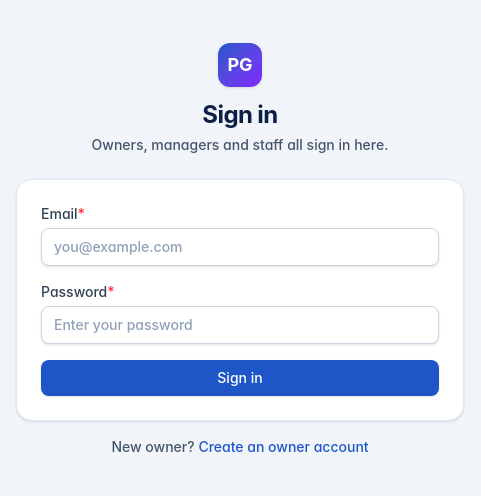
Test: LoginPage › shows the API error message when sign-in is rejected
Type "owner@example.com" into the field labelled "Email*".
click(240, 247); type("owner@example.com")  # box [41,228,439,266]
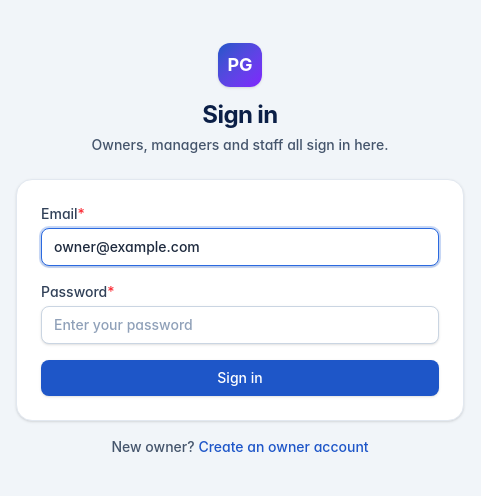
Type "wrong-password" into the password field labelled "Password*".
click(240, 325); type("wrong-password")  # box [41,306,439,344]
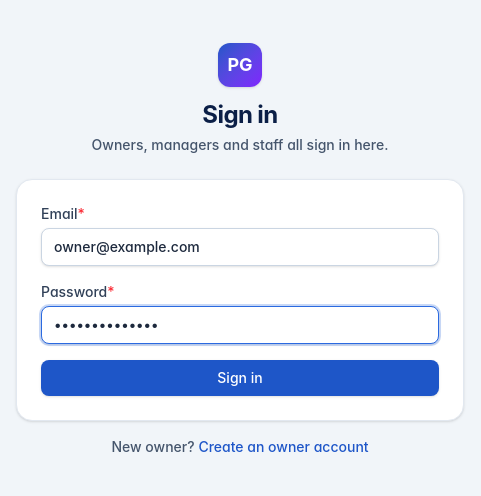
Click the button "Sign in".
click(240, 378)  # box [41,360,439,396]
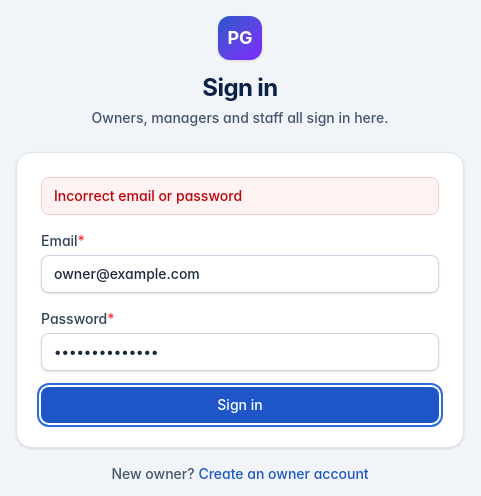
Now the message reads "Incorrect email or password", box [54,187,242,204]
